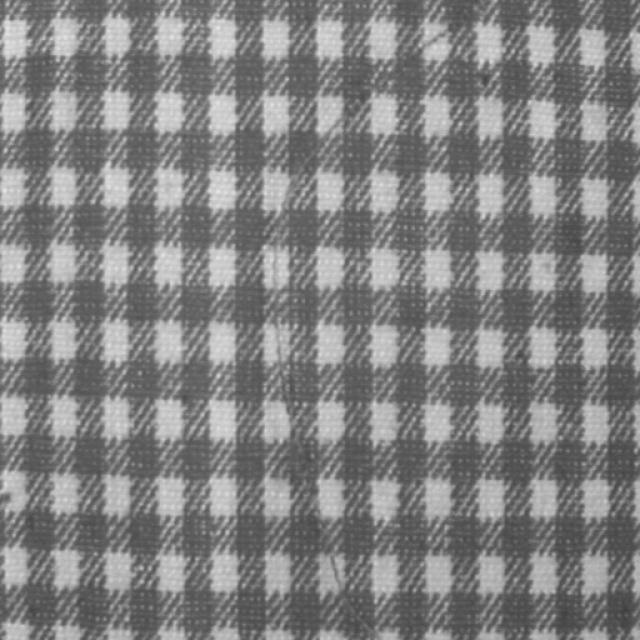Foreign-Body-Defect: (266, 22, 462, 639)
